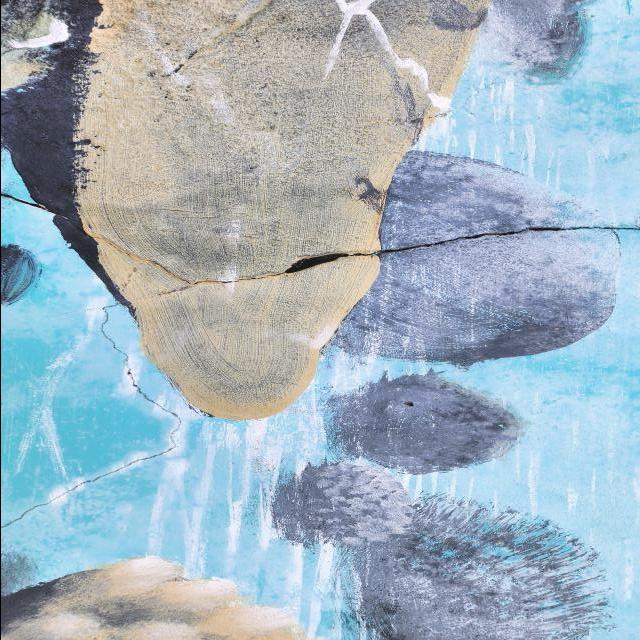SurfaceCrack: (22, 124, 636, 313)
